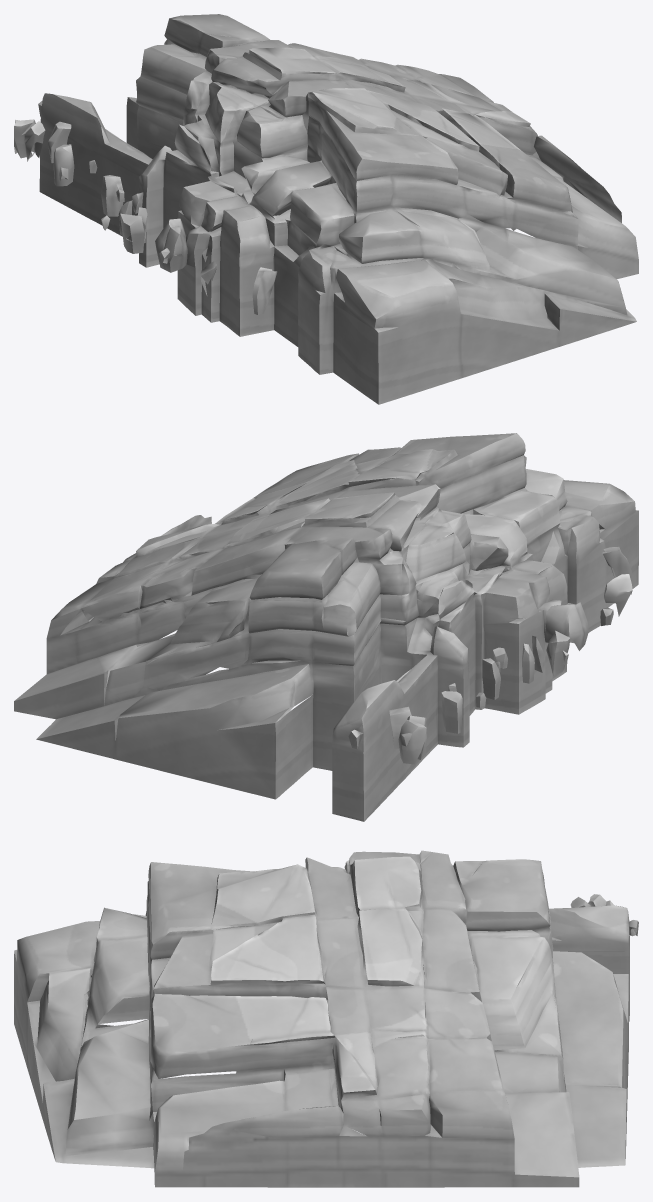
Rendered from sculpted_terrace_01.glb.
The picture shows the model from 3 angles, top to bottom: view 1: azimuth 30°, elevation 25°; view 2: azimuth 150°, elevation 25°; view 3: azimuth 270°, elevation 25°; orthographic projection. The views are drawn at different scales.
Parts seen in each view (by area): view 1: sculpted_terrace_01; view 2: sculpted_terrace_01; view 3: sculpted_terrace_01.
Part boxes in pixels (x1,y1,x2,y2): sculpted_terrace_01: (14, 14, 638, 404); sculpted_terrace_01: (14, 433, 638, 821); sculpted_terrace_01: (14, 850, 638, 1187).
Size of the model in its own units: 23.72 by 10.3 by 29.11.
Materials: 1 (1 with a texture image).
